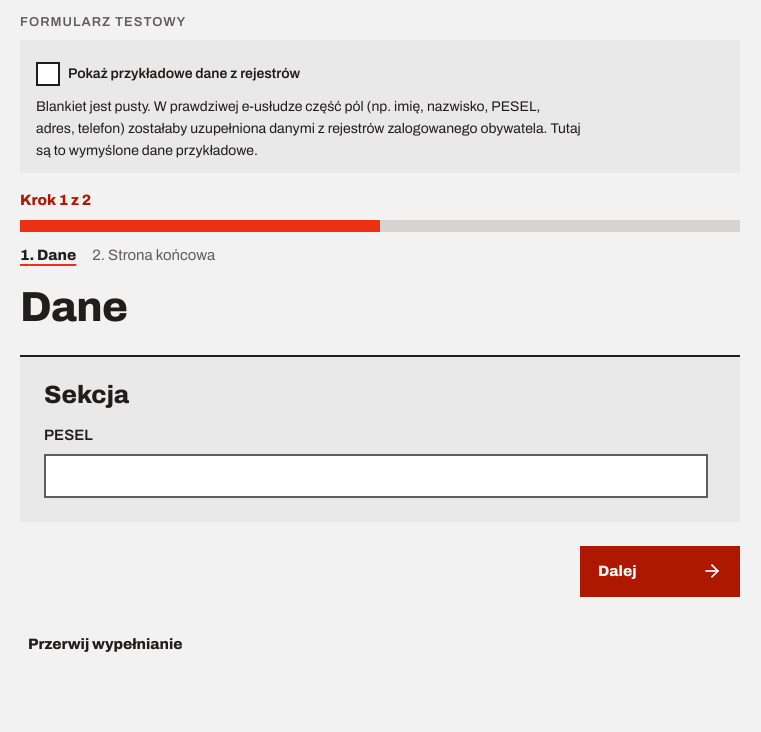
Test: validation on Dalej › blocks a wrong value, marks the field and focuses the summary
Step 1. Type "12345678901" into the field labelled "PESEL" → (376, 476), box top-left (44, 454), bottom-right (708, 498)
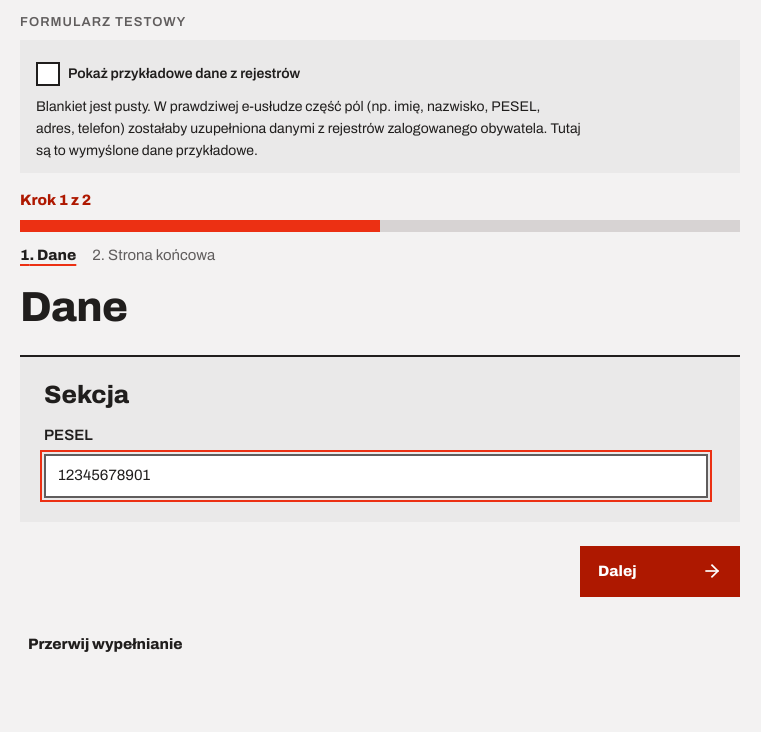
Step 2. Click the button "Dalej" → click(660, 571), box top-left (580, 546), bottom-right (740, 597)
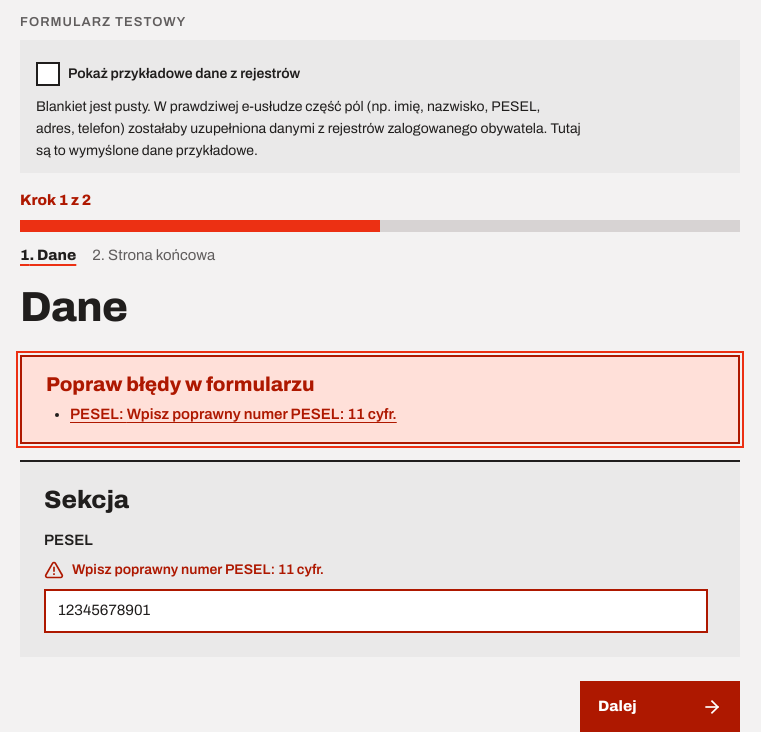
Result: the message shows "PESEL" at top-left (70, 406), bottom-right (397, 422)
Step 3. Clear the field labelled "PESEL" → (376, 611), box top-left (44, 589), bottom-right (708, 633)
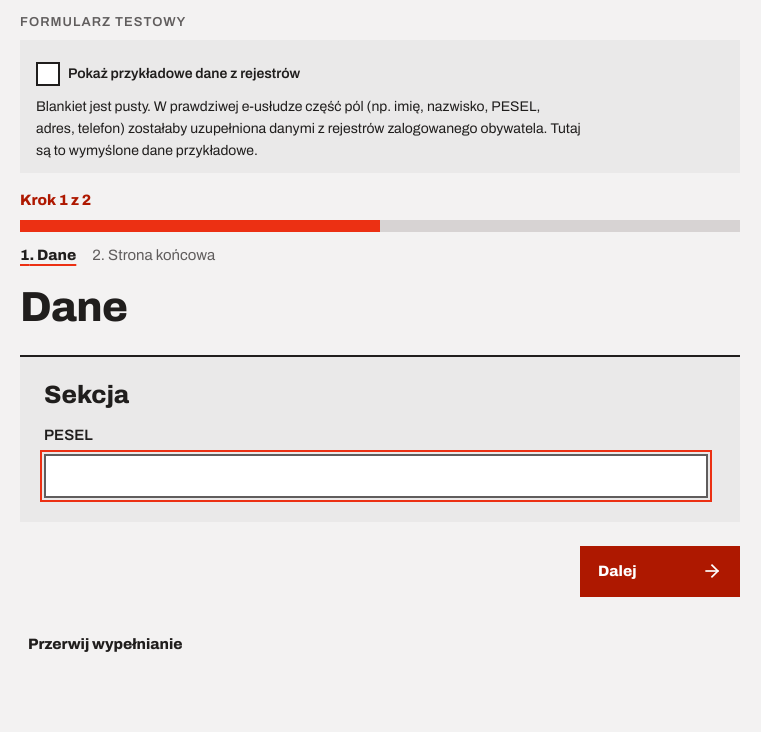
Step 4. Type "44051401359" into the field labelled "PESEL" → (376, 476), box top-left (44, 454), bottom-right (708, 498)
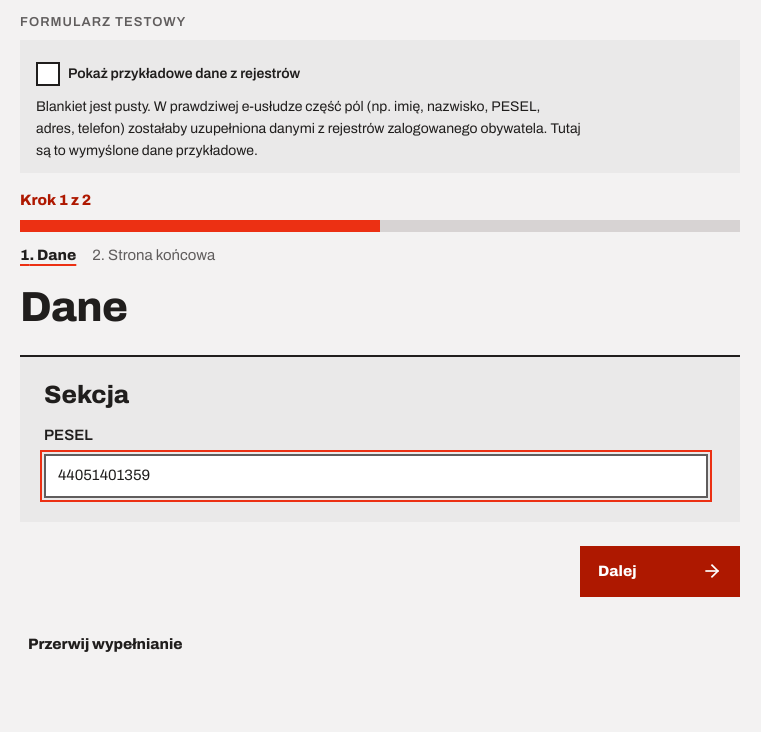
Step 5. Click the button "Dalej" → click(660, 571), box top-left (580, 546), bottom-right (740, 597)
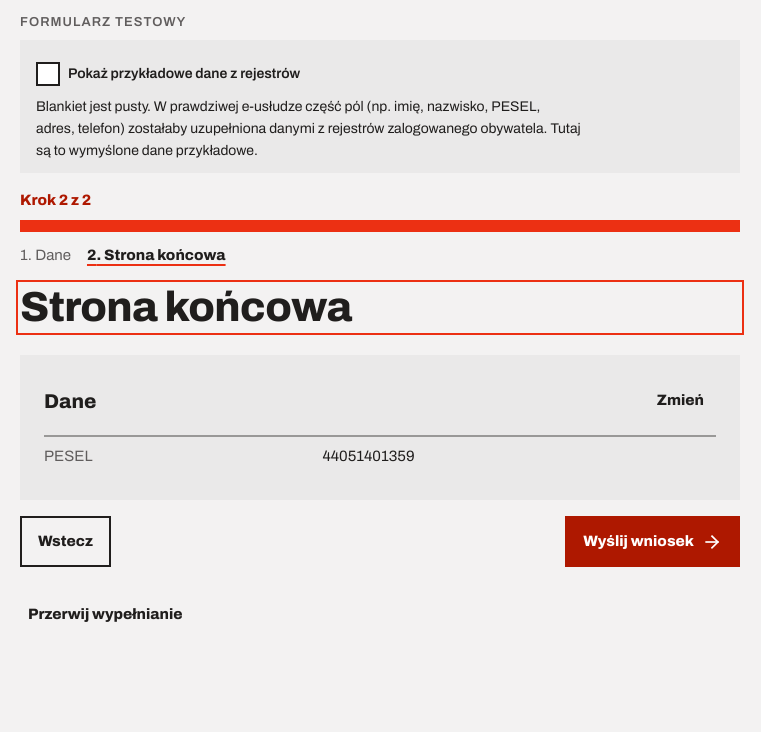
Result: the heading "Strona końcowa" is shown at top-left (20, 284), bottom-right (352, 330)
Result: the text "44051401359" is shown at top-left (322, 448), bottom-right (414, 464)
